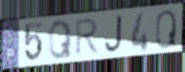4: (129, 10, 150, 54)
5: (23, 22, 45, 64)
J: (103, 14, 124, 54)
Q: (47, 18, 73, 61), (155, 8, 178, 50)
R: (73, 17, 100, 59)
